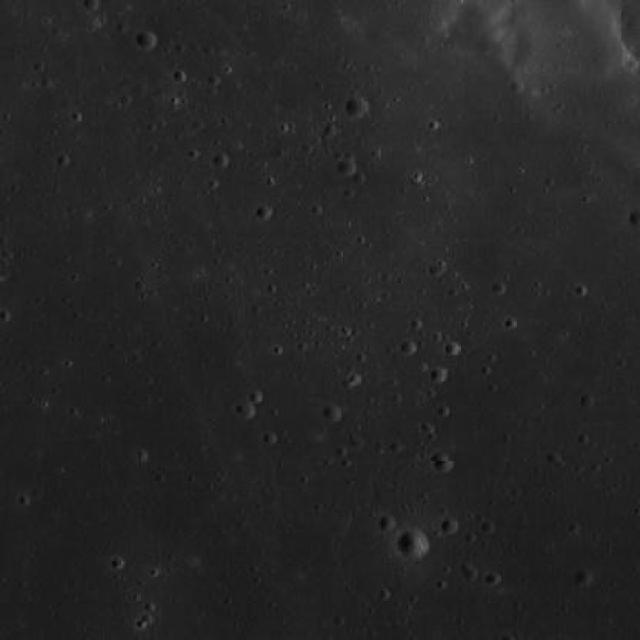crater: (393, 528, 424, 558), (130, 28, 152, 50), (345, 98, 367, 119), (232, 398, 251, 417), (333, 155, 352, 174), (430, 452, 448, 470), (318, 402, 336, 420), (576, 569, 592, 586), (440, 518, 457, 534), (374, 513, 391, 529), (396, 338, 412, 353)
